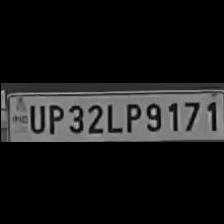1: (201, 97, 221, 130), (164, 97, 181, 130)
2: (84, 100, 104, 132)
3: (64, 100, 84, 132)
7: (180, 97, 200, 130)
9: (140, 98, 164, 132)
L: (103, 98, 121, 132)
P: (43, 100, 62, 134), (122, 98, 140, 132)
U: (24, 101, 43, 133)
